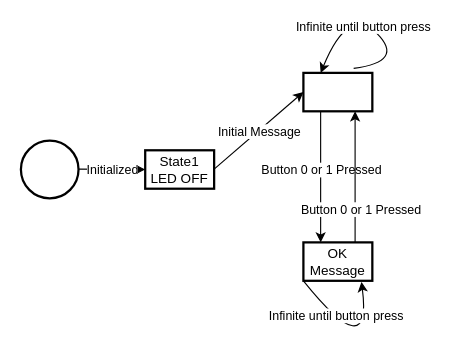
Some shapes in this 450 by 347 pixel diagram are drawn without their labels. The centre of each missing label's shape, as x and y in pixels:
SOS Message: point 337,91
Start: point 49,169
